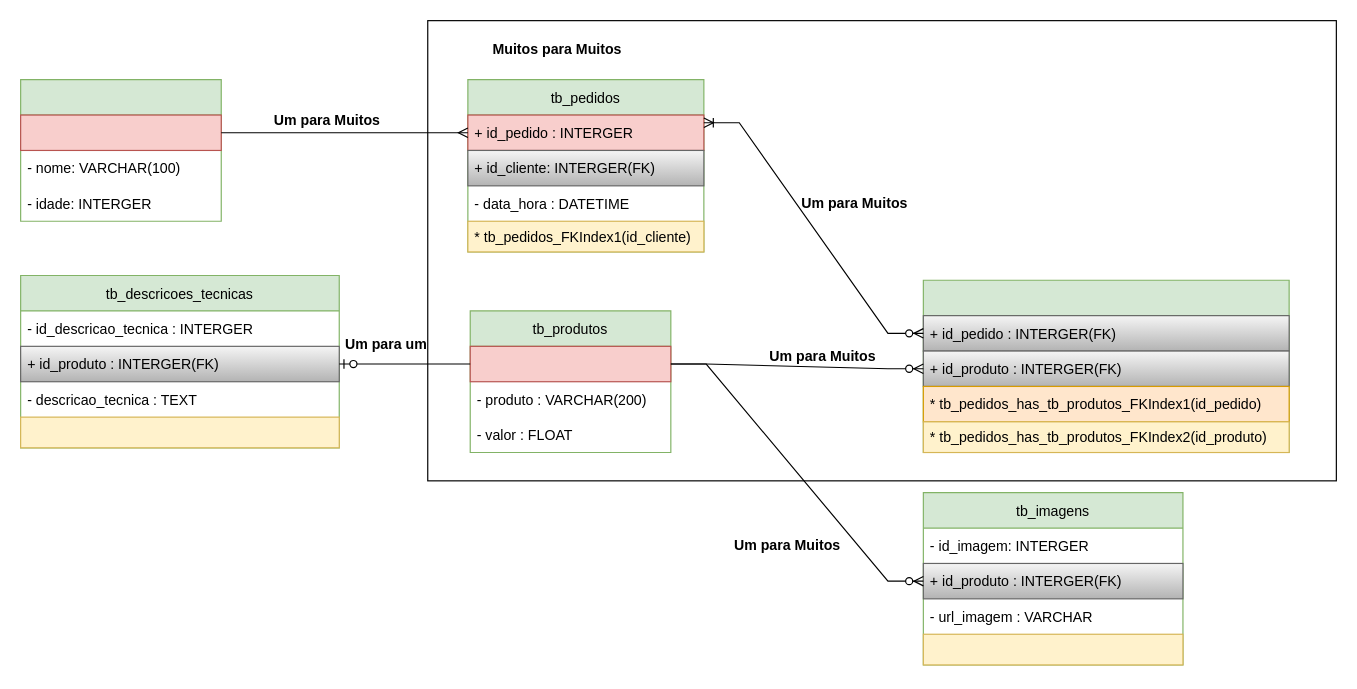
Image size: 1357x689. Some labels were removed from this diagram. Here are the shapes that lost their labels. From the top down, the box of each, then its label:
(19, 114, 221, 150): + id_cliente : INTERGER
(19, 78, 221, 221): tb_clientes
(469, 345, 671, 382): + id_produto : INTERGER
(922, 279, 1289, 453): tb_pedidos_produtos
(19, 416, 339, 448): * tb_descricoes_tecnicas_FKIndex1(id_produto)
(922, 633, 1183, 665): * tb_imagens_FKIndex1 (id_produto)
